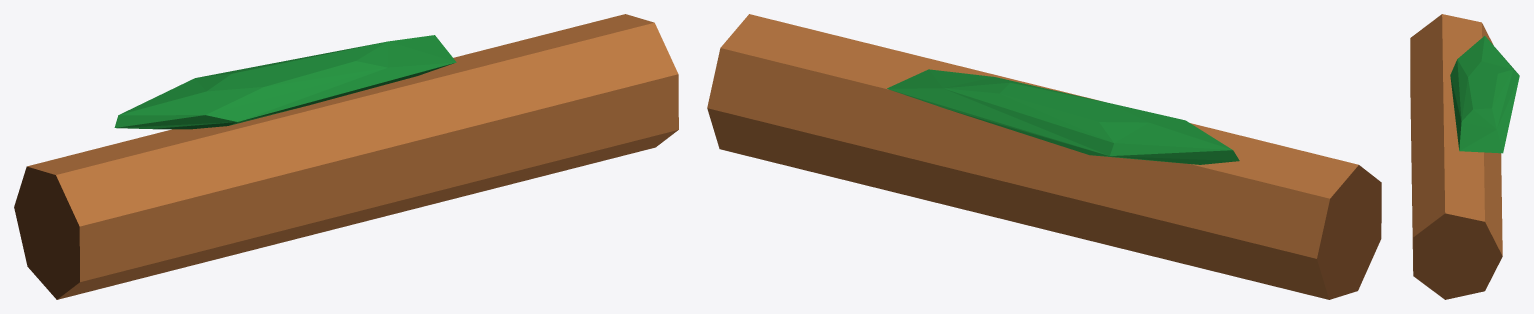
Rendered from mossy_log.fbx.
3 renders of one model, left to right at view 1: azimuth 30°, elevation 25°; view 2: azimuth 150°, elevation 25°; view 3: azimuth 270°, elevation 25°, orthographic. The views are drawn at different scales.
Parts seen in each view (by area): view 1: mossy_log; view 2: mossy_log; view 3: mossy_log.
Part boxes in pixels (x1=…): mossy_log: x1=14, y1=14, x2=678, y2=299; mossy_log: x1=707, y1=14, x2=1381, y2=299; mossy_log: x1=1410, y1=14, x2=1519, y2=299.
Size of the model in its own units: 3.5 by 0.8 by 0.8.
